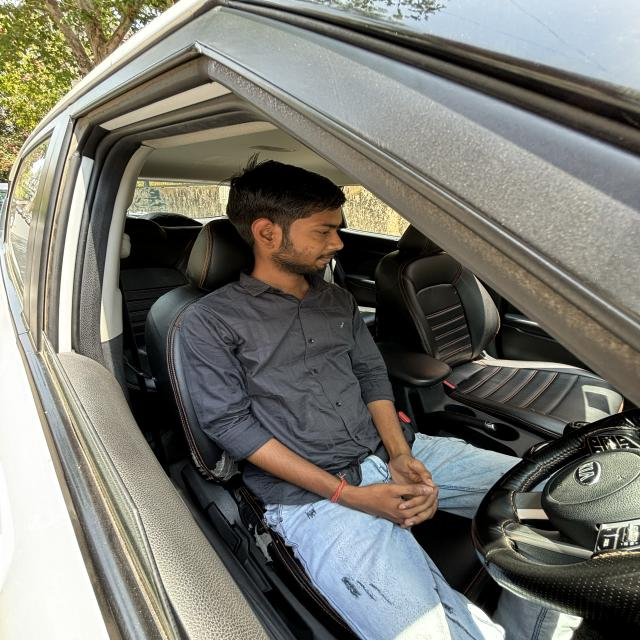no-seatbelt: (169, 283, 417, 457)
